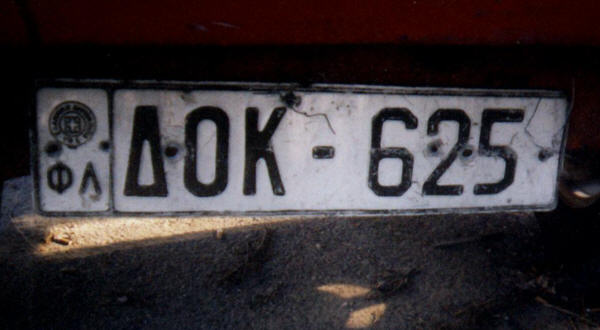license_plate: (33, 78, 570, 212)
